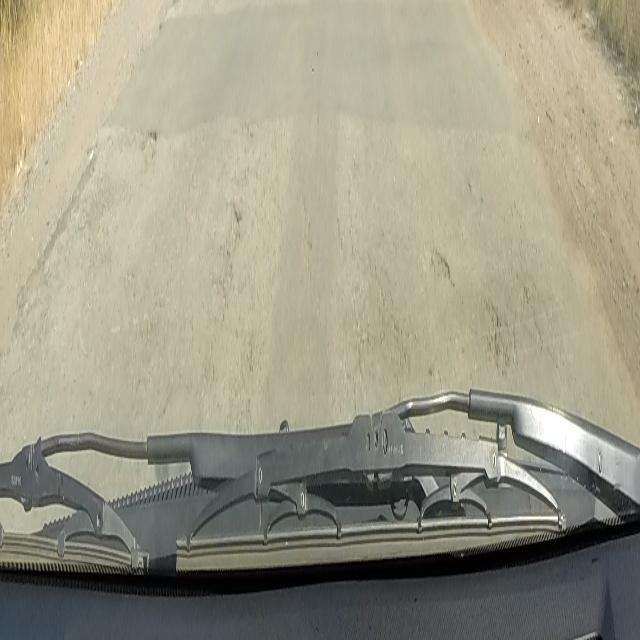pothole: (140, 122, 158, 164)
